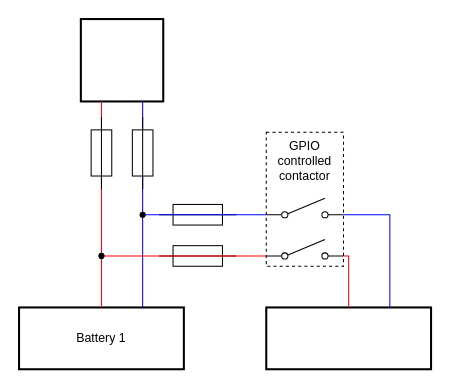
Image size: 449x387. Some labels were removed from this diagram. Each missing label, with the box of its shape:
Battery 2: (265, 306, 432, 370)
Inverter: (79, 18, 164, 102)
